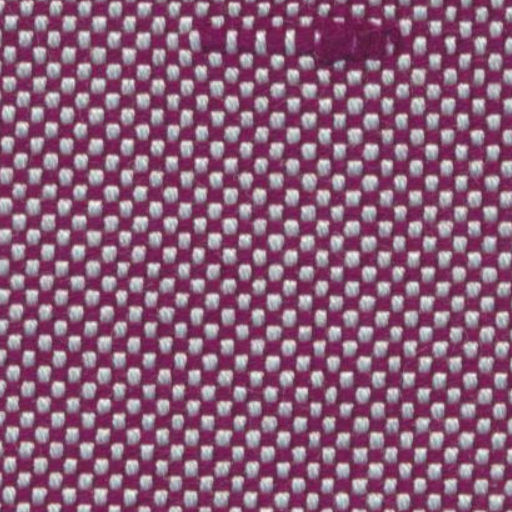DaiSha: (158, 10, 416, 74)
